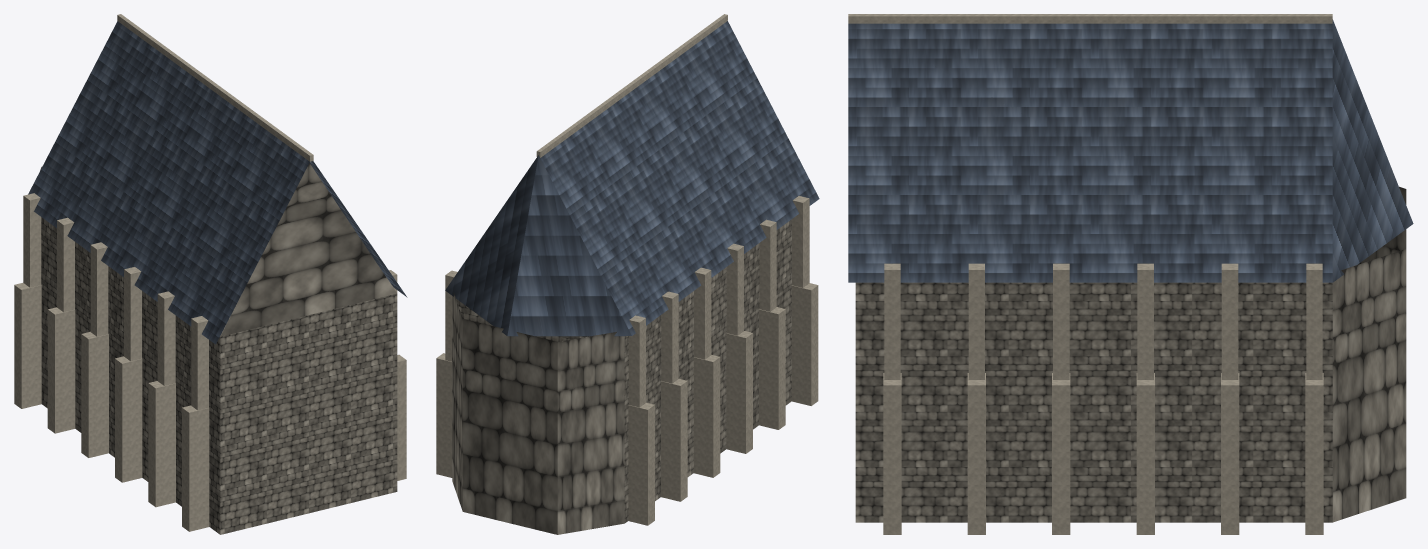
File: Church_Nave_1_LOD2.gltf
3 views of the same model, side by side, from view 1: azimuth 30°, elevation 25°; view 2: azimuth 150°, elevation 25°; view 3: azimuth 270°, elevation 25° (orthographic). The views are drawn at different scales.
Parts seen in each view (by area): view 1: Church_Nave_1_LOD2; view 2: Church_Nave_1_LOD2; view 3: Church_Nave_1_LOD2.
Boxes of the visible parts, bbox=[...] form: Church_Nave_1_LOD2: bbox=[14, 14, 407, 534]; Church_Nave_1_LOD2: bbox=[436, 14, 819, 534]; Church_Nave_1_LOD2: bbox=[848, 14, 1413, 534].
Bounding box in the file's own units: 17.2 × 27.25 × 30.8.
3 materials, 3 textured.
